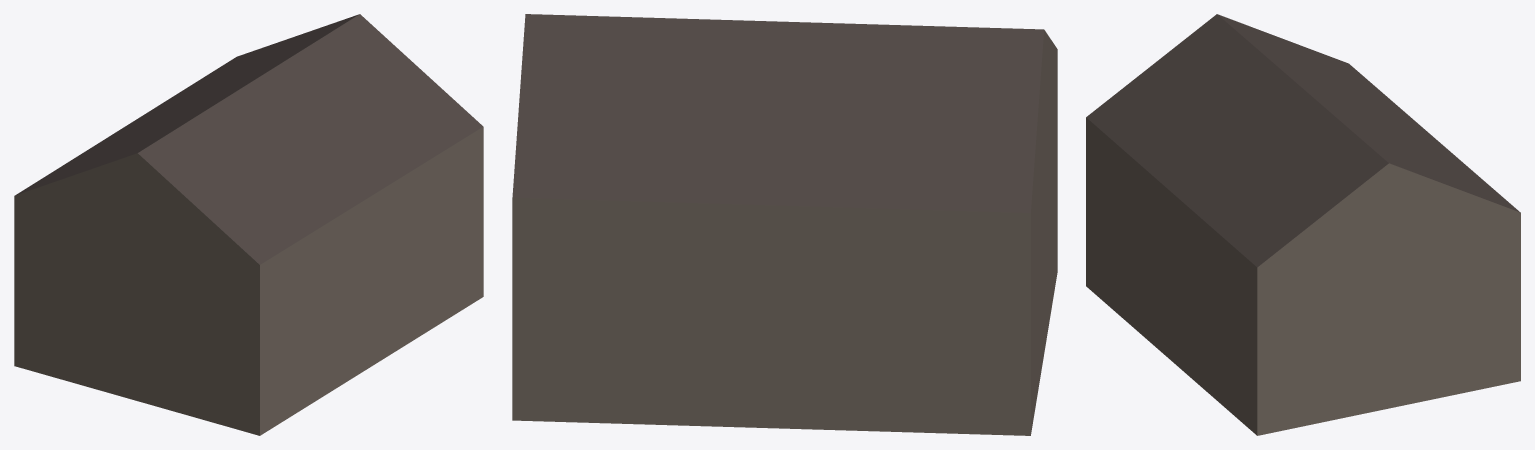
3 renders of one model, left to right at view 1: azimuth 30°, elevation 25°; view 2: azimuth 150°, elevation 25°; view 3: azimuth 270°, elevation 25°, orthographic. The views are drawn at different scales.
Visible parts, largest first — view 1: HP-w1202250226; view 2: HP-w1202250226; view 3: HP-w1202250226.
Part boxes in pixels (left/top/right/bottom): HP-w1202250226: left=14, top=14, right=483, bottom=435; HP-w1202250226: left=512, top=14, right=1057, bottom=435; HP-w1202250226: left=1086, top=14, right=1520, bottom=435.
Size of the model in its own units: 23.37 by 13.11 by 21.05.
